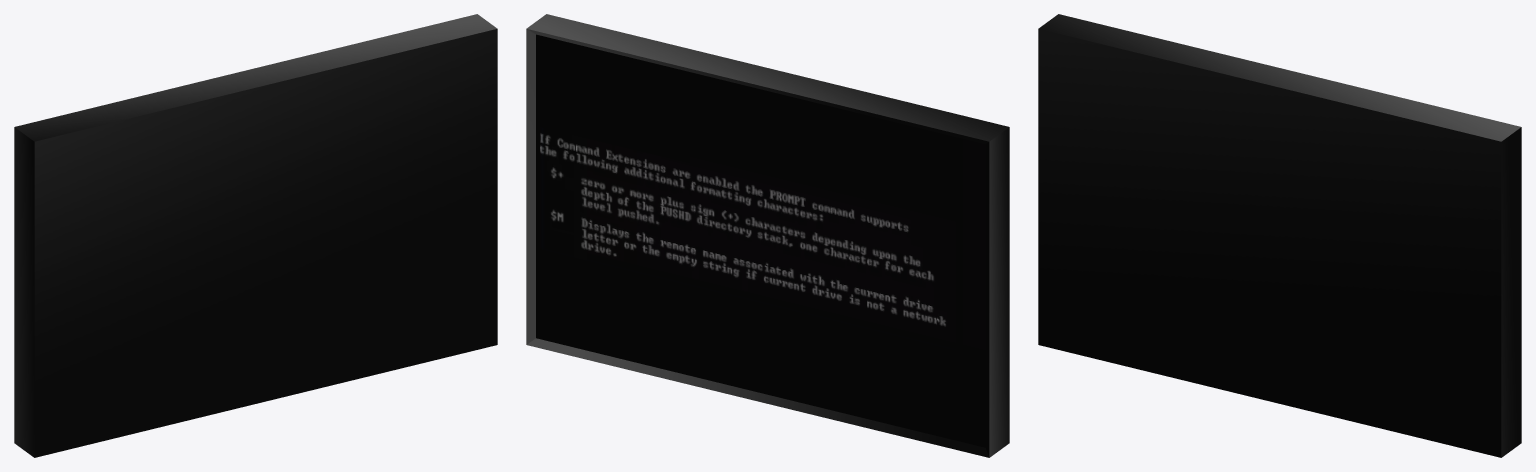
Rendered from Moniter.fbx.
3 views of the same model, side by side, from view 1: azimuth 30°, elevation 25°; view 2: azimuth 150°, elevation 25°; view 3: azimuth 330°, elevation 25° (orthographic).
Visible parts, largest first — view 1: pCube9; view 2: pCube9; view 3: pCube9.
Part boxes in pixels (<box>): pCube9: <box>14,14,497,457</box>; pCube9: <box>526,14,1009,457</box>; pCube9: <box>1038,14,1521,457</box>.
Bounding box in the file's own units: 9.43 × 6.15 × 0.7101.
